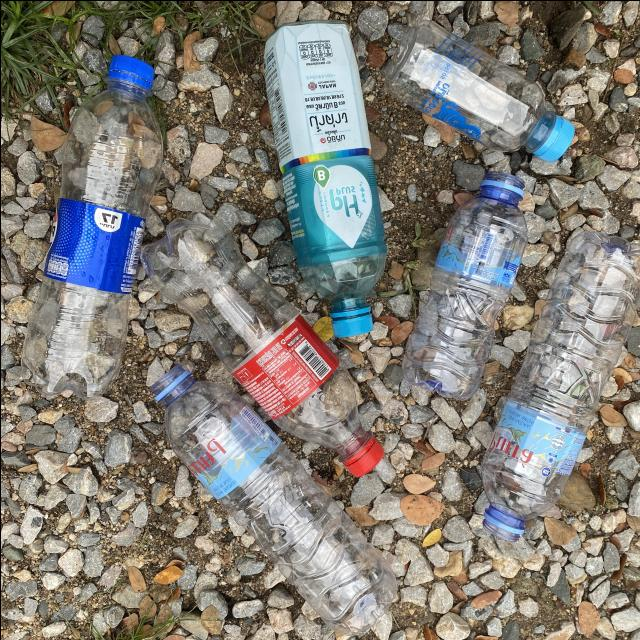plastik: (150, 363, 395, 634), (140, 212, 382, 476), (480, 231, 640, 540), (21, 54, 161, 398), (264, 20, 386, 336), (401, 171, 526, 399), (384, 19, 573, 160)
